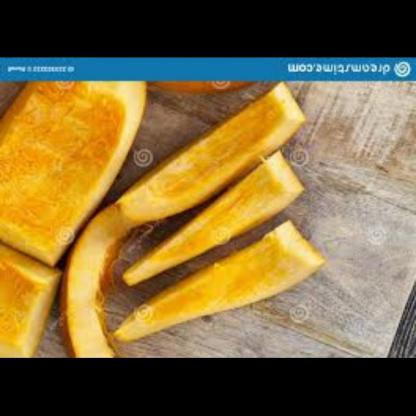pumpkin: (108, 218, 324, 350), (0, 83, 150, 267), (117, 82, 309, 220), (122, 148, 304, 293), (65, 195, 155, 359), (1, 264, 64, 359), (143, 80, 270, 101)
